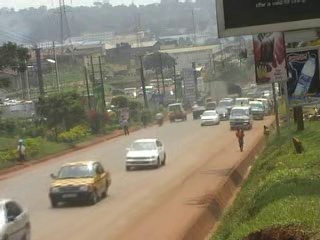Car: (47, 156, 112, 209), (124, 135, 167, 173), (0, 195, 35, 239), (164, 101, 189, 123), (197, 108, 220, 127), (212, 105, 229, 121), (187, 106, 205, 120), (202, 100, 218, 110)
Motorcycle: (153, 109, 164, 128)
